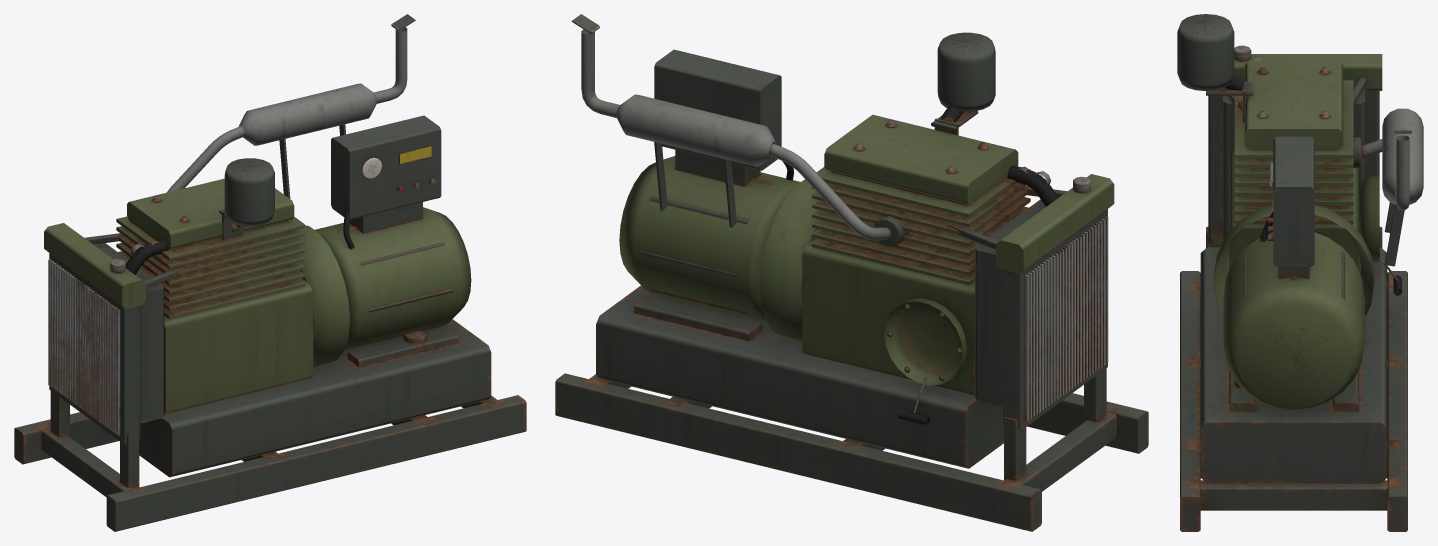
File: generator.glb
The picture shows the model from 3 angles, left to right: view 1: azimuth 30°, elevation 25°; view 2: azimuth 150°, elevation 25°; view 3: azimuth 270°, elevation 25°; orthographic projection. The views are drawn at different scales.
Parts seen in each view (by area): view 1: generator; view 2: generator; view 3: generator.
Boxes of the visible parts, x1=… form: generator: x1=14, y1=14, x2=526, y2=531; generator: x1=555, y1=14, x2=1148, y2=531; generator: x1=1177, y1=14, x2=1423, y2=531.
Bounding box in the file's own units: 2.06 × 1.66 × 0.95.
Materials: 1 (1 with a texture image).
